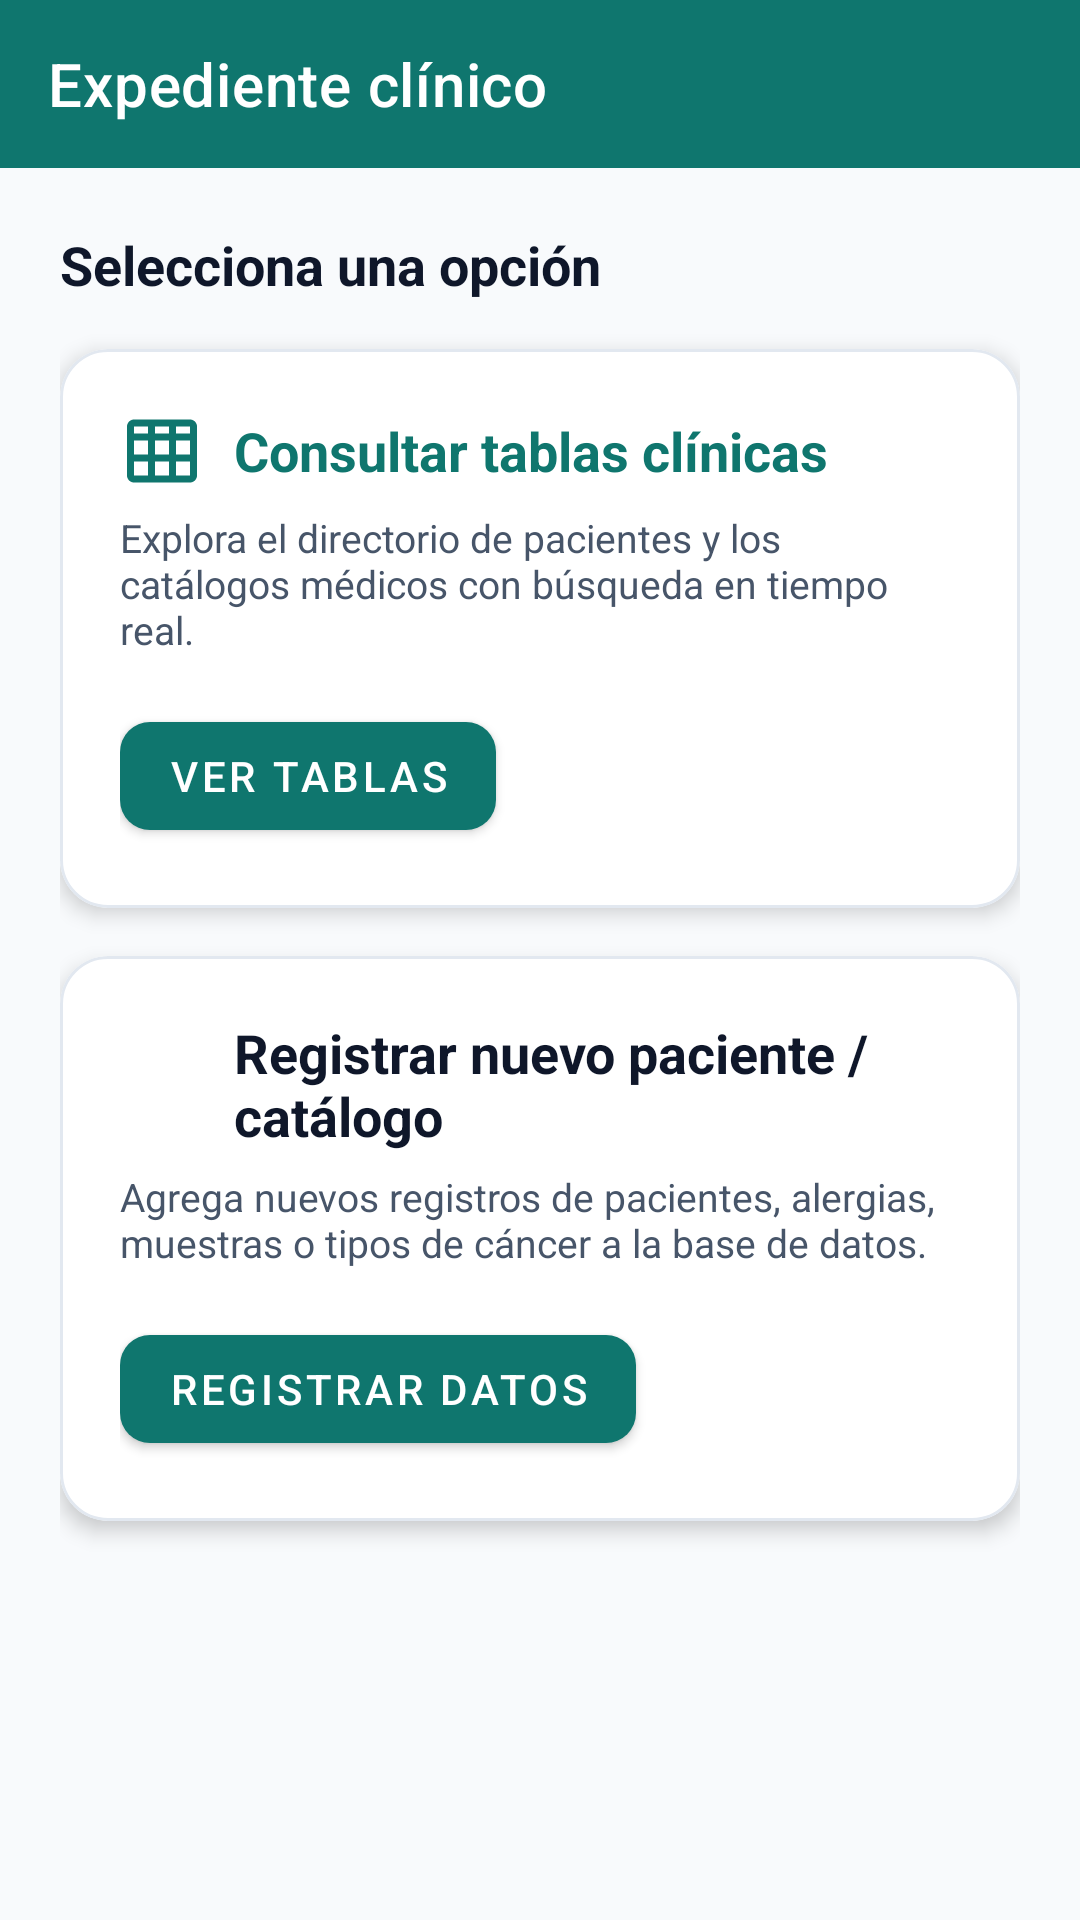

Where to tap for icons on this 1080px×1920px app screen, as (x,y):
table: (162,451)
